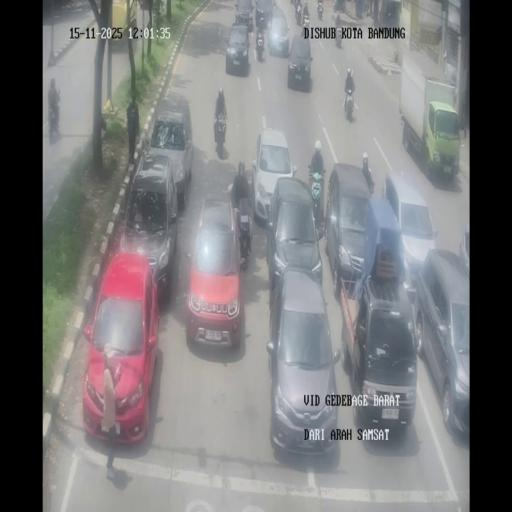3: (399, 57, 459, 180)
car: (82, 251, 160, 444), (266, 270, 340, 458), (343, 272, 418, 436), (414, 252, 469, 442), (380, 173, 437, 299), (325, 163, 373, 293), (145, 102, 193, 206), (252, 126, 296, 224), (288, 32, 314, 90), (224, 23, 252, 76), (458, 227, 470, 283), (255, 0, 274, 30), (234, 0, 254, 28)
truck: (232, 194, 252, 265), (308, 169, 325, 222), (48, 97, 60, 138), (343, 86, 355, 122), (214, 111, 226, 146), (256, 32, 266, 62), (302, 4, 310, 31), (335, 26, 343, 48), (366, 174, 375, 193), (295, 3, 303, 24), (316, 0, 324, 20), (379, 2, 386, 24), (333, 0, 345, 12), (452, 80, 457, 106), (362, 0, 370, 16)
